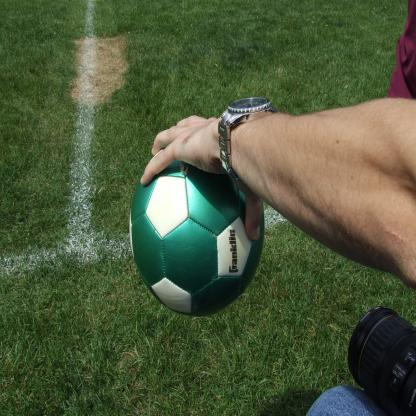Ball: (129, 158, 264, 317)
